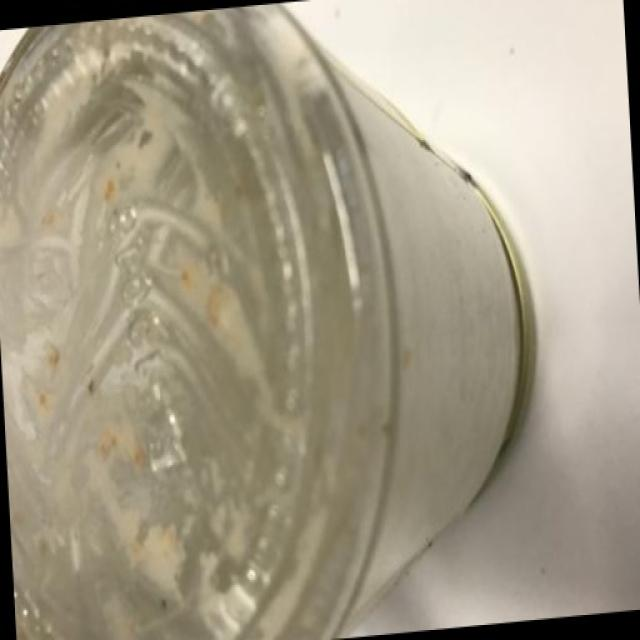vidrio: (12, 7, 613, 640)
